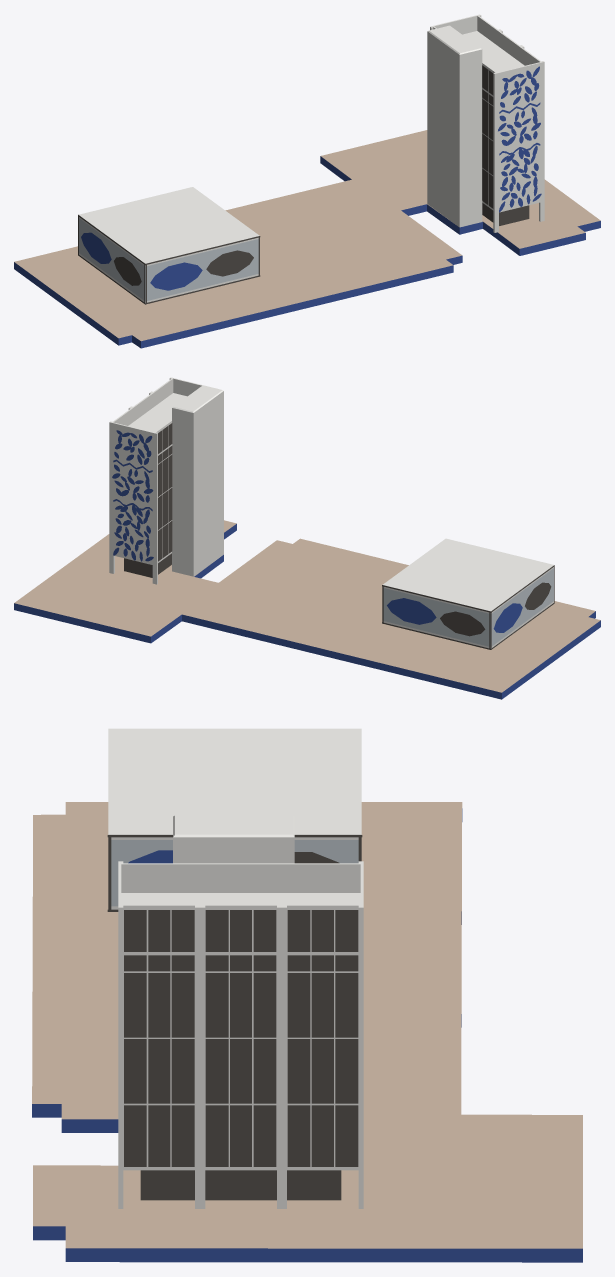
Rendered from mia-bacardi-buildings.glb.
The picture shows the model from 3 angles, top to bottom: view 1: azimuth 30°, elevation 25°; view 2: azimuth 150°, elevation 25°; view 3: azimuth 270°, elevation 25°; orthographic projection. The views are drawn at different scales.
Parts seen in each view (by area): view 1: Bacardi Buildings; view 2: Bacardi Buildings; view 3: Bacardi Buildings.
Boxes of the visible parts, bbox=[...] form: Bacardi Buildings: bbox=[14, 14, 600, 348]; Bacardi Buildings: bbox=[14, 377, 600, 699]; Bacardi Buildings: bbox=[32, 728, 582, 1262].
Bounding box in the file's own units: 104 × 37.3 × 54.3.
